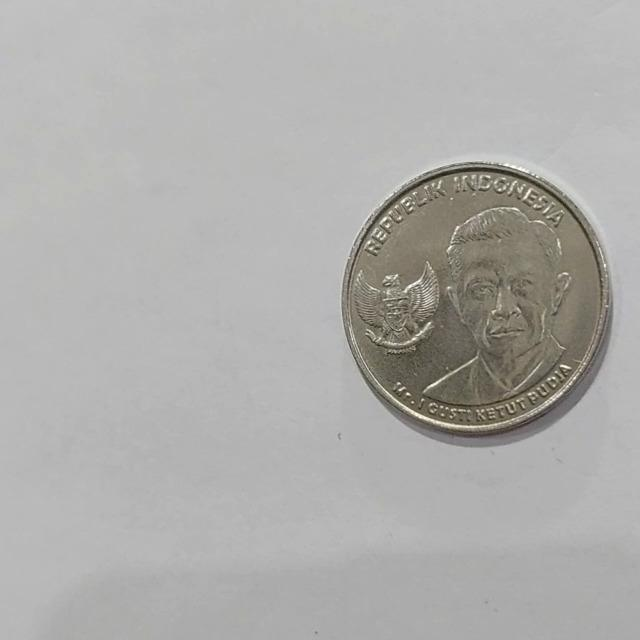Rp100: (341, 160, 612, 438), (416, 203, 575, 408)
